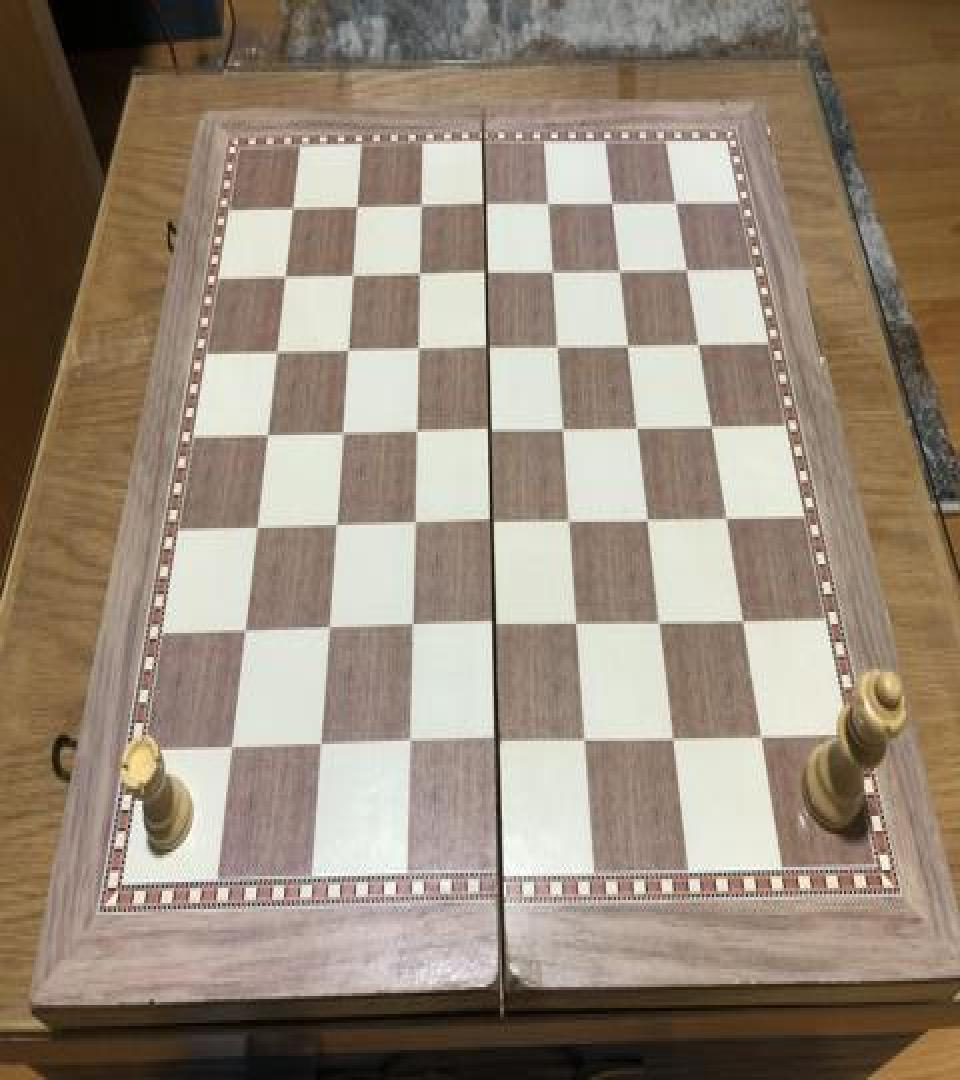xcorner: (484, 610, 508, 647), (234, 616, 258, 653), (487, 727, 511, 764), (220, 733, 244, 770), (667, 183, 691, 219), (603, 184, 627, 220), (539, 186, 563, 222), (411, 189, 435, 225), (347, 190, 371, 226), (282, 192, 306, 228), (678, 250, 702, 286), (611, 252, 635, 288), (543, 254, 567, 290), (476, 256, 500, 292), (409, 258, 433, 294), (275, 261, 299, 297), (689, 326, 713, 362), (619, 327, 643, 363), (478, 332, 502, 368), (407, 333, 431, 369), (337, 334, 361, 370), (266, 336, 290, 372), (702, 408, 726, 444), (628, 411, 652, 447), (480, 414, 504, 450), (405, 416, 429, 452), (331, 417, 355, 453), (256, 420, 280, 456), (717, 501, 741, 537), (639, 502, 663, 538), (560, 504, 584, 540), (482, 507, 506, 543), (403, 508, 427, 544), (325, 510, 349, 546), (246, 513, 270, 549), (733, 603, 757, 639), (650, 606, 674, 642), (567, 608, 591, 644), (401, 612, 425, 648), (317, 615, 341, 651), (751, 720, 775, 756), (663, 722, 687, 758), (575, 724, 599, 760), (398, 729, 422, 765), (309, 732, 333, 768), (475, 188, 499, 223), (342, 260, 366, 295), (549, 329, 573, 364), (554, 413, 578, 448)
